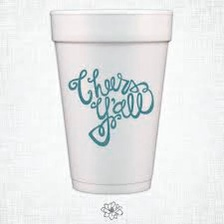paper_cup: (43, 3, 177, 198)
